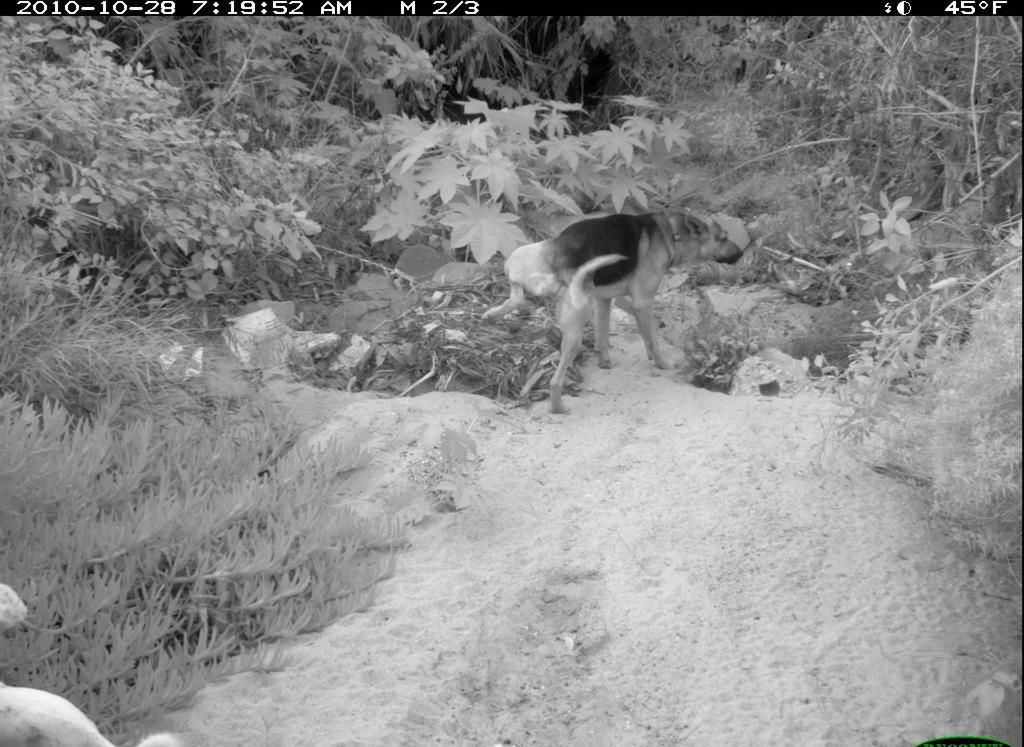dog: (473, 205, 752, 415), (4, 573, 191, 747)
